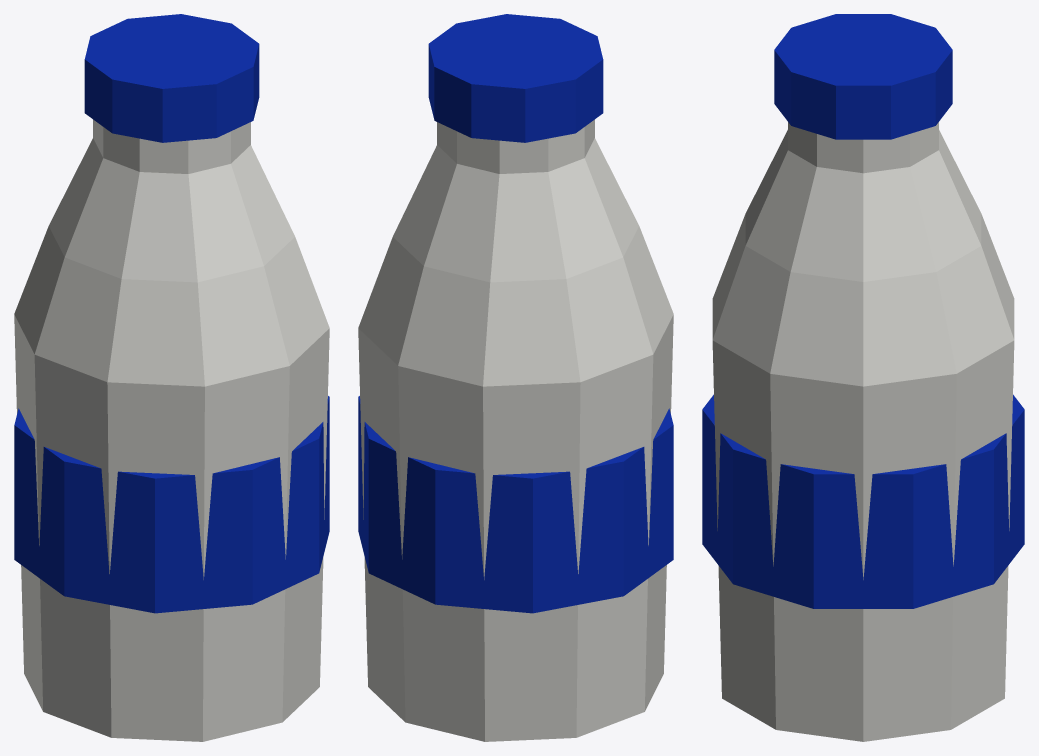
File: milk_bottle.obj
The picture shows the model from 3 angles, left to right: view 1: azimuth 30°, elevation 25°; view 2: azimuth 150°, elevation 25°; view 3: azimuth 270°, elevation 25°; orthographic projection.
Parts seen in each view (by area): view 1: milk_bottle; view 2: milk_bottle; view 3: milk_bottle.
Part boxes in pixels (x1,y1,x2,y2): milk_bottle: (14, 14, 329, 741); milk_bottle: (358, 14, 673, 741); milk_bottle: (702, 14, 1024, 741).
Size of the model in its own units: 0.064 by 0.14 by 0.065.
